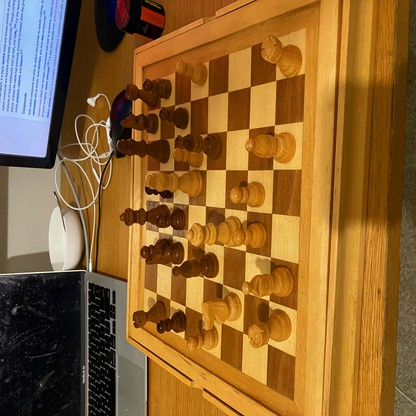bishop_black: (175, 134, 223, 159), (173, 253, 218, 278)
bishop_white: (241, 266, 295, 297), (246, 132, 295, 162)
king_black: (115, 140, 170, 163)
king_white: (146, 169, 204, 197)
knight_black: (145, 242, 183, 266), (121, 113, 158, 132)
knight_white: (203, 294, 241, 330)
pawn_black: (159, 108, 189, 130), (157, 312, 186, 334), (140, 237, 168, 258), (157, 209, 186, 229), (143, 80, 172, 98)
pawn_white: (233, 221, 267, 248), (231, 182, 265, 207), (177, 61, 208, 87), (188, 327, 218, 351), (173, 149, 204, 166)
queen_black: (120, 205, 170, 225)
queen_white: (187, 217, 242, 245)
rock_black: (124, 84, 158, 109), (133, 303, 165, 327)
rock_white: (261, 35, 303, 79), (249, 310, 291, 349)
